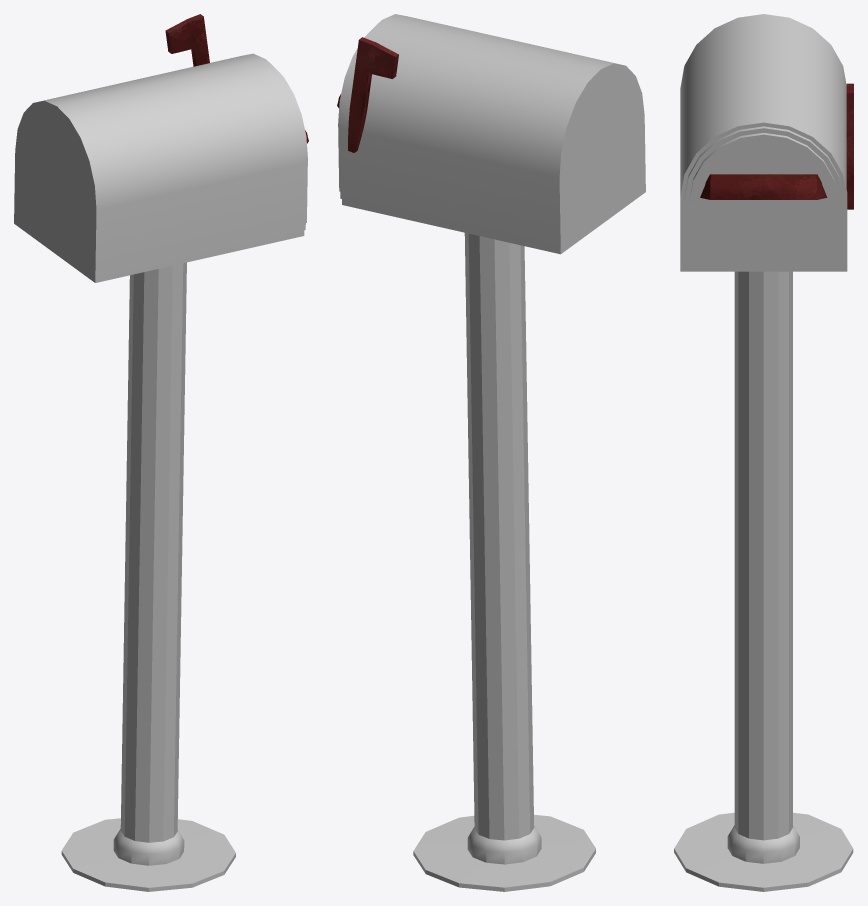
The model's file is Caixa de Correio.fbx.
The picture shows the model from 3 angles, left to right: view 1: azimuth 30°, elevation 25°; view 2: azimuth 150°, elevation 25°; view 3: azimuth 270°, elevation 25°; orthographic projection. The views are drawn at different scales.
Visible parts, largest first — view 1: Pedestal_Corpo_Mesh, Haste_Mesh; view 2: Pedestal_Corpo_Mesh, Haste_Mesh; view 3: Pedestal_Corpo_Mesh, Frente_Mesh, Haste_Mesh.
Part boxes in pixels (x1,y1,x2,y2): Pedestal_Corpo_Mesh: (14,53,307,891); Haste_Mesh: (165,14,209,66); Pedestal_Corpo_Mesh: (338,14,645,891); Haste_Mesh: (348,37,398,152); Pedestal_Corpo_Mesh: (674,14,853,891); Frente_Mesh: (700,174,827,199); Haste_Mesh: (846,83,853,209).
Bounding box in the file's own units: 32.44 × 107 × 21.52.
